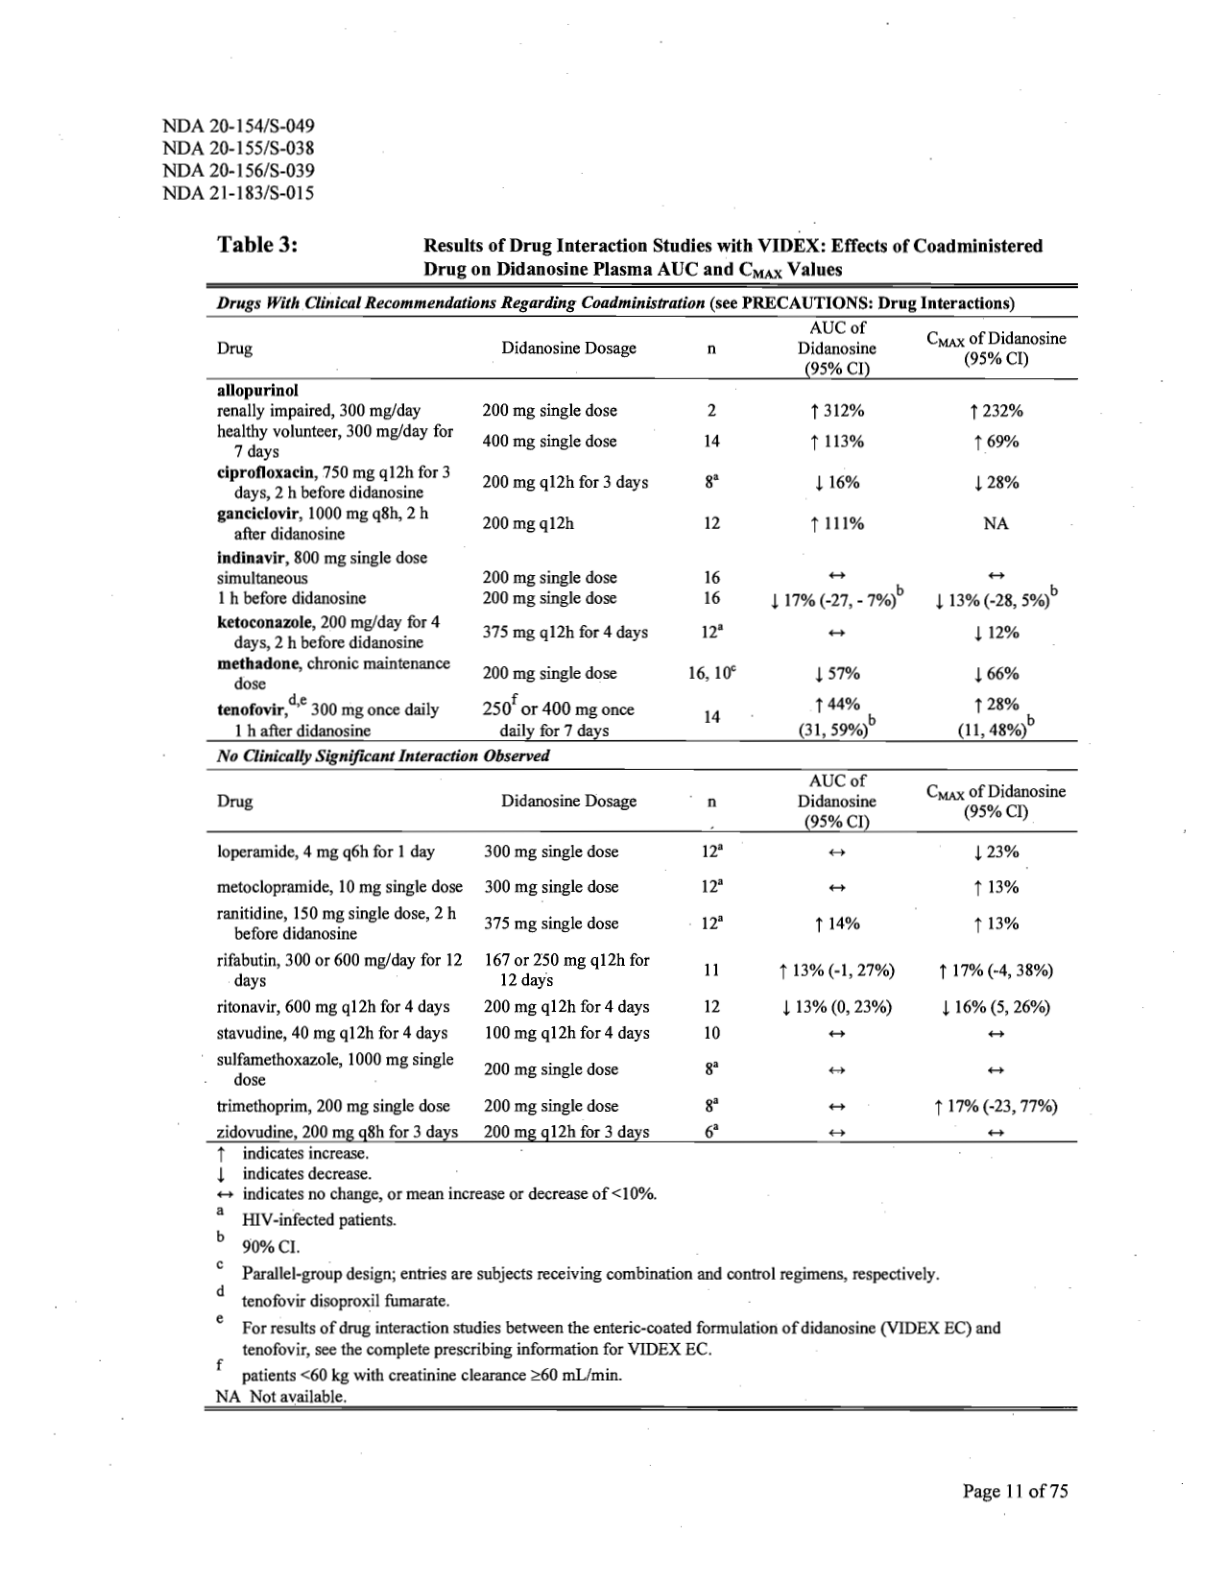partial_lined_merged_cells: (204, 281, 1079, 1146)
